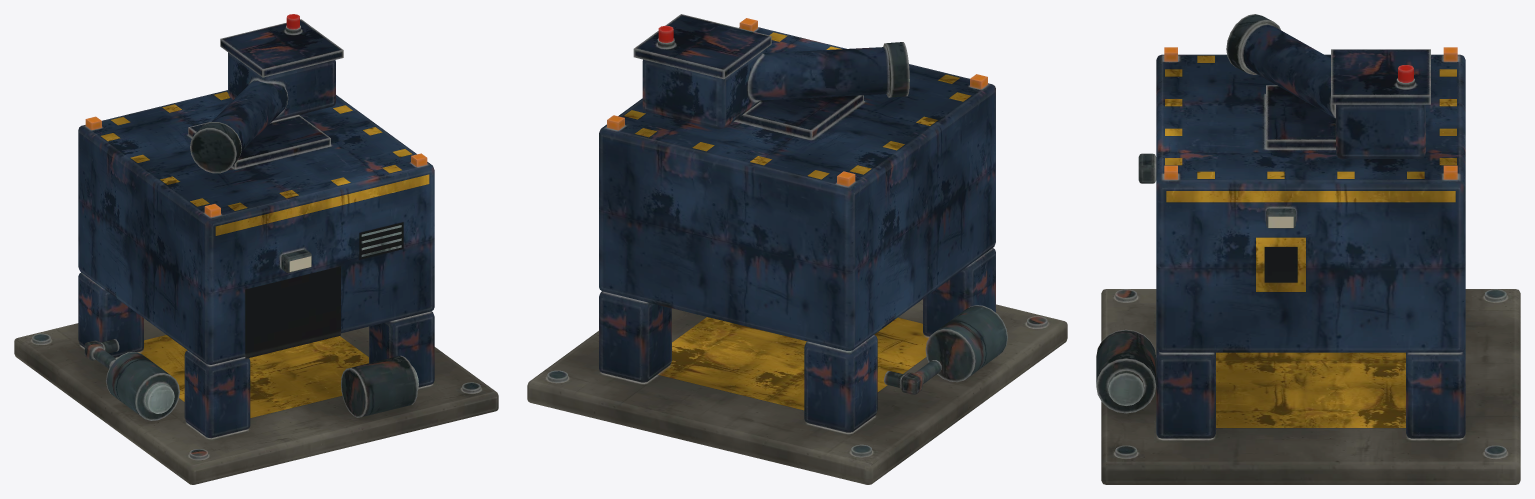
The model's file is collector.glb.
3 views of the same model, side by side, from view 1: azimuth 30°, elevation 25°; view 2: azimuth 150°, elevation 25°; view 3: azimuth 270°, elevation 25° (orthographic). The views are drawn at different scales.
Visible parts, largest first — view 1: te_collector; view 2: te_collector; view 3: te_collector.
Boxes of the visible parts, x1,y1,x2,y2 form: te_collector: (14,14,498,484); te_collector: (527,14,1067,484); te_collector: (1096,14,1520,484).
Bounding box in the file's own units: 0.84 × 0.8276 × 0.85.
1 material, 1 textured.
